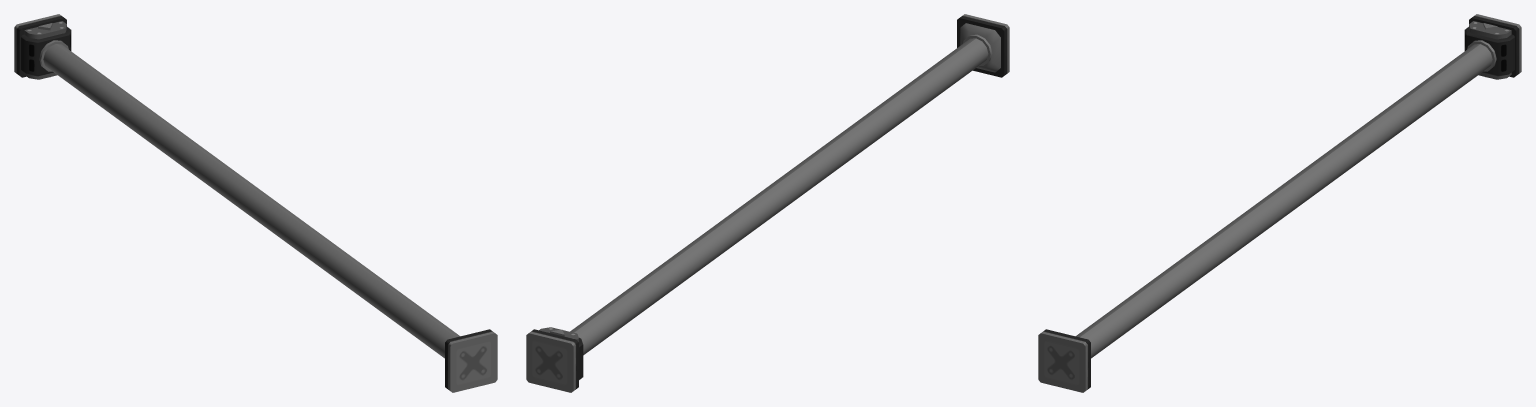
The model's file is obj_interactive_piston_01_on.fbx.
3 views of the same model, side by side, from view 1: azimuth 30°, elevation 25°; view 2: azimuth 150°, elevation 25°; view 3: azimuth 330°, elevation 25° (orthographic).
Visible parts, largest first — view 1: obj_interactive_piston_01_on; view 2: obj_interactive_piston_01_on; view 3: obj_interactive_piston_01_on.
Part boxes in pixels (x1=…): obj_interactive_piston_01_on: x1=14, y1=14, x2=497, y2=392; obj_interactive_piston_01_on: x1=526, y1=14, x2=1009, y2=392; obj_interactive_piston_01_on: x1=1038, y1=14, x2=1521, y2=392.
Bounding box in the file's own units: 1 × 1 × 16.
